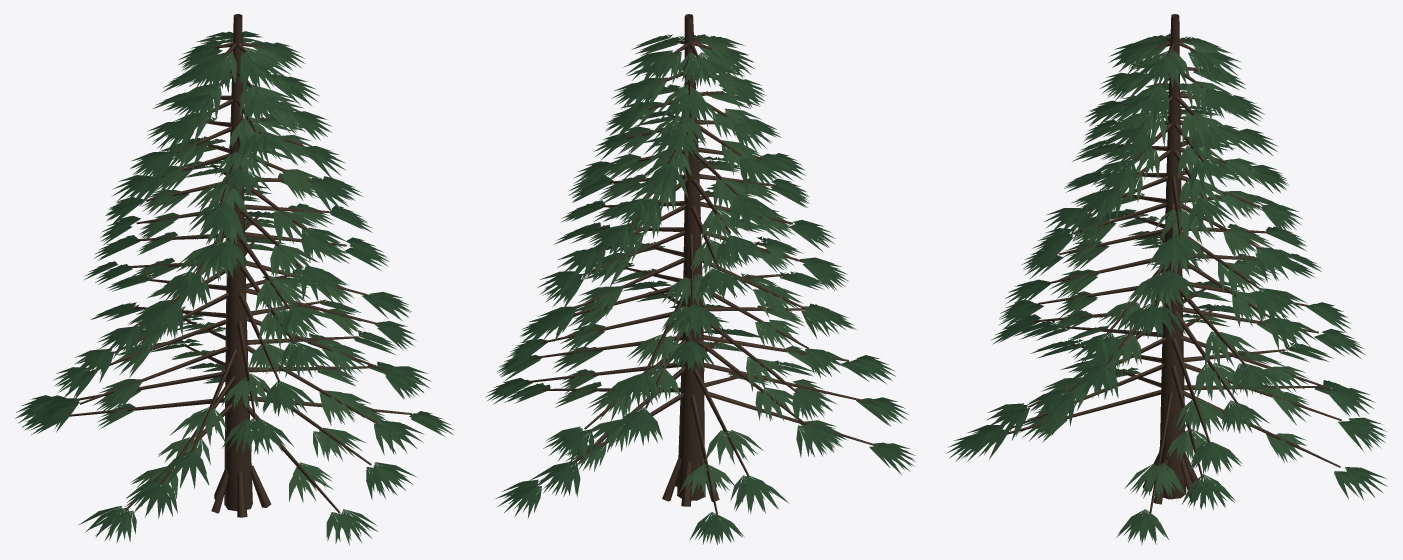
File: pine_2.glb
The picture shows the model from 3 angles, left to right: view 1: azimuth 30°, elevation 25°; view 2: azimuth 150°, elevation 25°; view 3: azimuth 270°, elevation 25°; orthographic projection. The views are drawn at different scales.
Parts seen in each view (by area): view 1: pine_2_LOD0; view 2: pine_2_LOD0; view 3: pine_2_LOD0.
Part boxes in pixels (box(x1,y1,x2,y2)): pine_2_LOD0: box(15, 14, 454, 545); pine_2_LOD0: box(485, 14, 915, 544); pine_2_LOD0: box(946, 14, 1387, 544).
Size of what is drawn, in the model's own units: 1.83 by 2.21 by 1.86.
